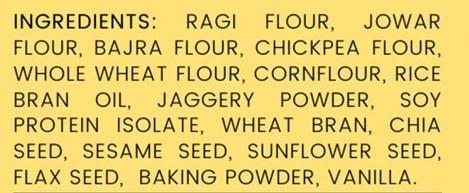ingredients: (11, 10, 449, 187)
